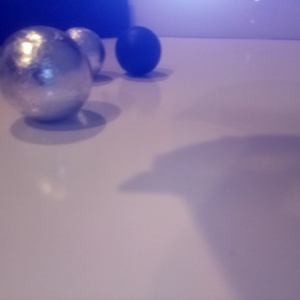alive_ball: (1, 26, 93, 121), (57, 28, 105, 78)
dead_ball: (114, 27, 162, 76)
